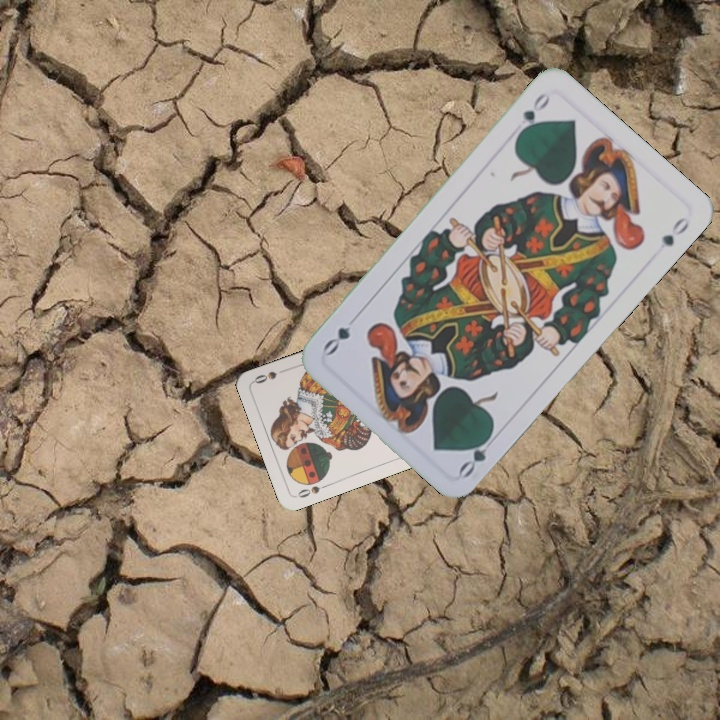GO: (455, 427, 496, 480), (513, 88, 553, 140)
SO: (292, 480, 331, 500)
